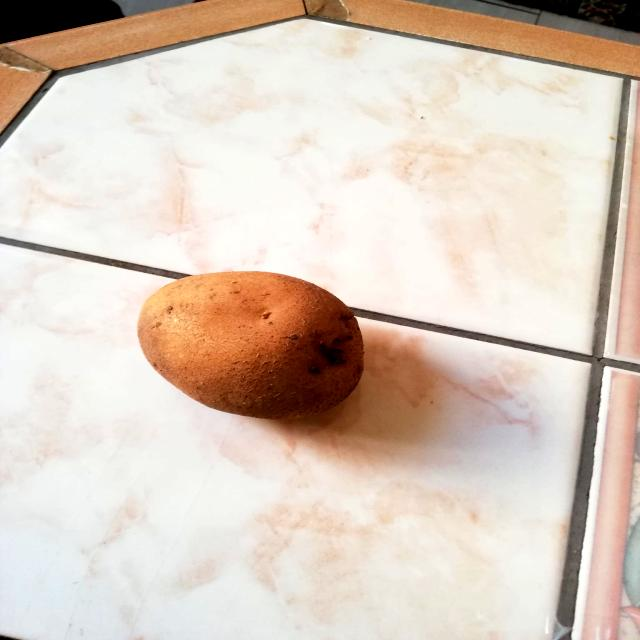potato: (126, 258, 380, 430)
